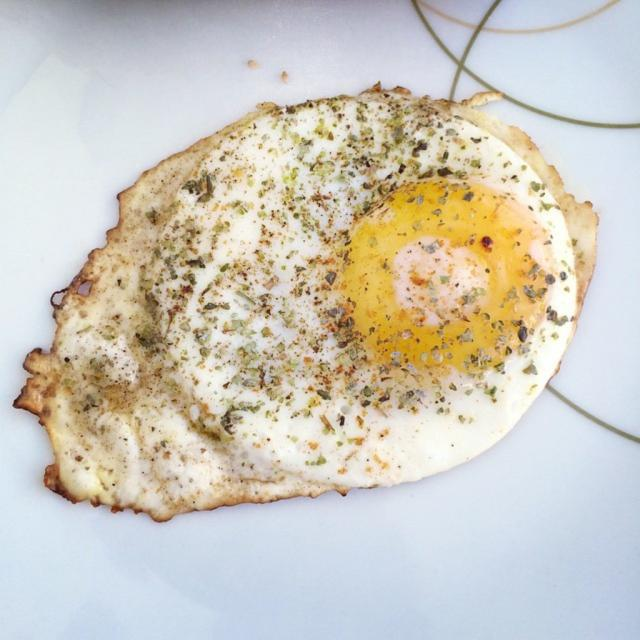Egg: (12, 74, 600, 520)
